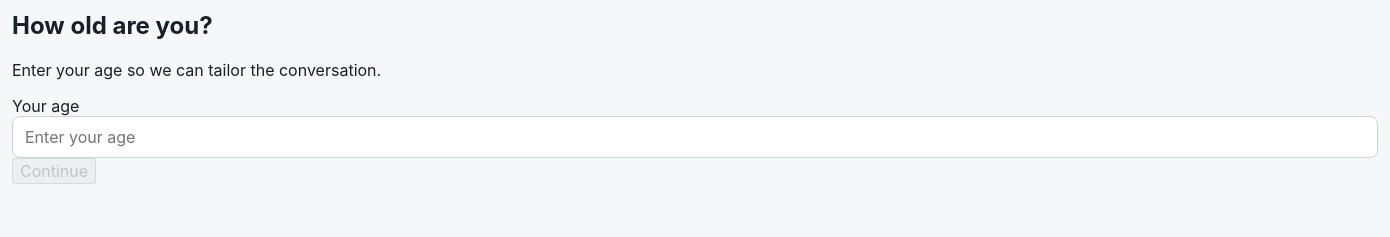
Test case: displays the backend's error message for an age outside the valid range and allows retry
The width and height of the screenshot is (1390, 237).
Type "20" into the number field labelled "Your age" at coordinates (695, 137), box [12,116,1378,158]
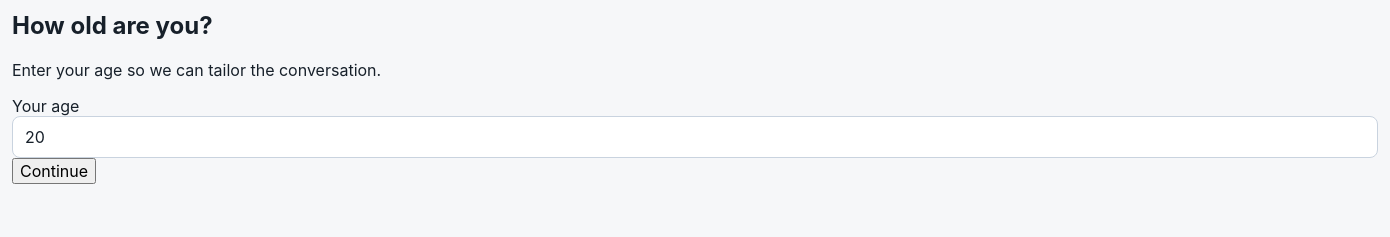
Click the button "Continue" at coordinates (54, 171), box [12,158,96,184]
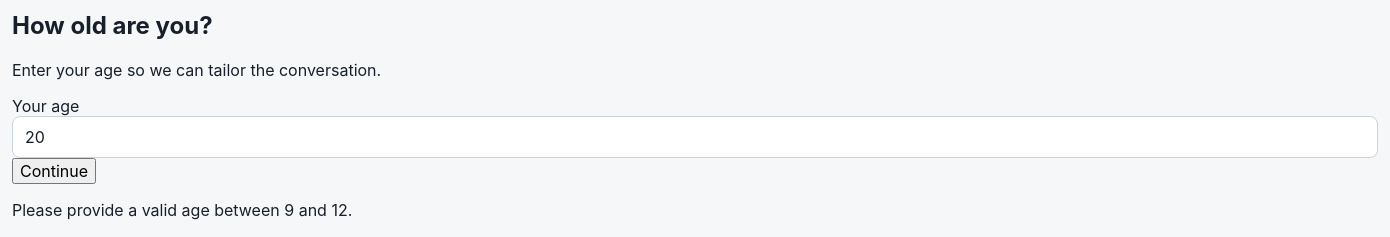
Expected: the number field labelled "Your age" is enabled, [12,116,1378,158]
Result: the text "Please provide a valid age between 9 and 12." is shown at [12,200,352,220]
